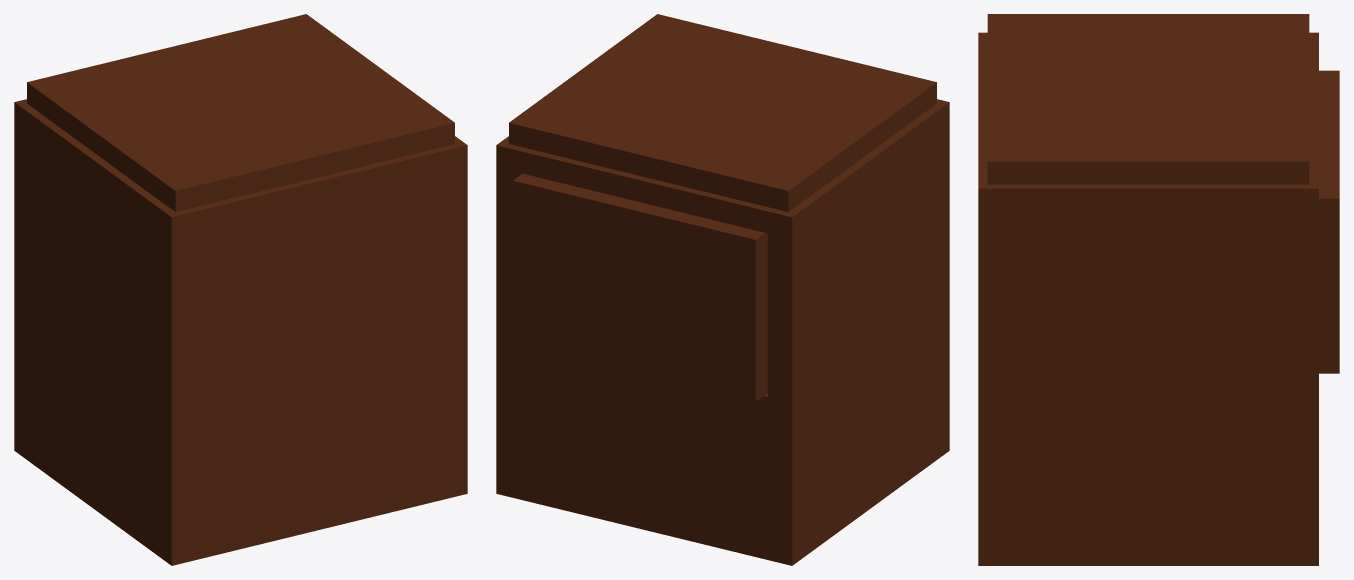
File: f_lounge_desk.fbx
3 views of the same model, side by side, from view 1: azimuth 30°, elevation 25°; view 2: azimuth 150°, elevation 25°; view 3: azimuth 270°, elevation 25° (orthographic). The views are drawn at different scales.
Visible parts, largest first — view 1: desk; view 2: desk, drawer1; view 3: desk, drawer1.
Part boxes in pixels (x1=…): desk: x1=14, y1=14, x2=467, y2=565; desk: x1=496, y1=14, x2=949, y2=565; drawer1: x1=513, y1=173, x2=767, y2=401; desk: x1=978, y1=14, x2=1318, y2=565; drawer1: x1=1319, y1=70, x2=1339, y2=373.
Size of the model in its own units: 66.11 by 78.95 by 64.68.
Materials: 2 (2 with a texture image).
